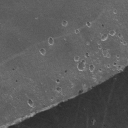corrosion: (25, 97, 35, 108), (38, 46, 47, 57), (77, 61, 86, 72), (100, 32, 109, 42), (60, 19, 69, 28), (108, 28, 117, 37), (102, 50, 111, 59), (47, 37, 55, 46), (73, 54, 80, 63), (85, 20, 92, 29), (88, 64, 95, 73), (73, 28, 80, 35), (55, 86, 61, 93), (84, 53, 91, 59), (112, 9, 118, 15), (112, 61, 118, 67), (85, 40, 91, 46)
